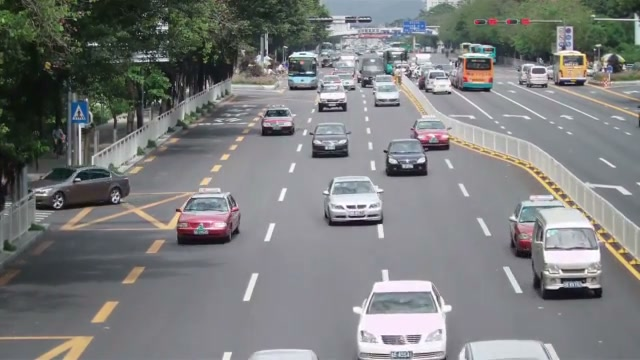bus: (451, 53, 494, 92), (288, 51, 318, 90)
car: (353, 279, 453, 359), (530, 209, 604, 299), (31, 166, 131, 210), (508, 197, 570, 258), (176, 192, 241, 244), (321, 175, 384, 226), (457, 339, 561, 359), (384, 138, 428, 177), (310, 122, 351, 158), (409, 117, 451, 151), (260, 106, 296, 136), (373, 81, 401, 107), (424, 70, 452, 94)
truck: (452, 54, 494, 92), (552, 50, 588, 86), (288, 51, 319, 90), (521, 64, 549, 88)
